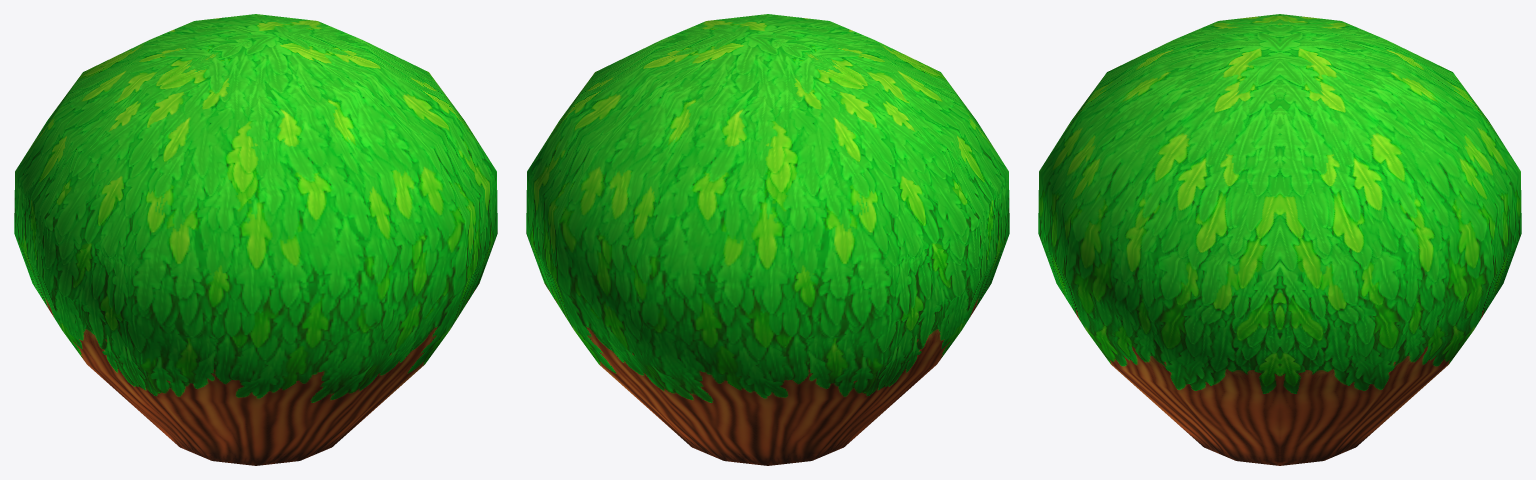
File: Bush02.FBX
3 views of the same model, side by side, from view 1: azimuth 30°, elevation 25°; view 2: azimuth 150°, elevation 25°; view 3: azimuth 270°, elevation 25° (orthographic).
Parts seen in each view (by area): view 1: Bush02; view 2: Bush02; view 3: Bush02.
Boxes of the visible parts, <box> form: Bush02: <box>14,14,497,465</box>; Bush02: <box>526,14,1009,465</box>; Bush02: <box>1038,14,1521,465</box>.
Size of what is drawn, in the model's own units: 1.26 by 1.12 by 1.26.
